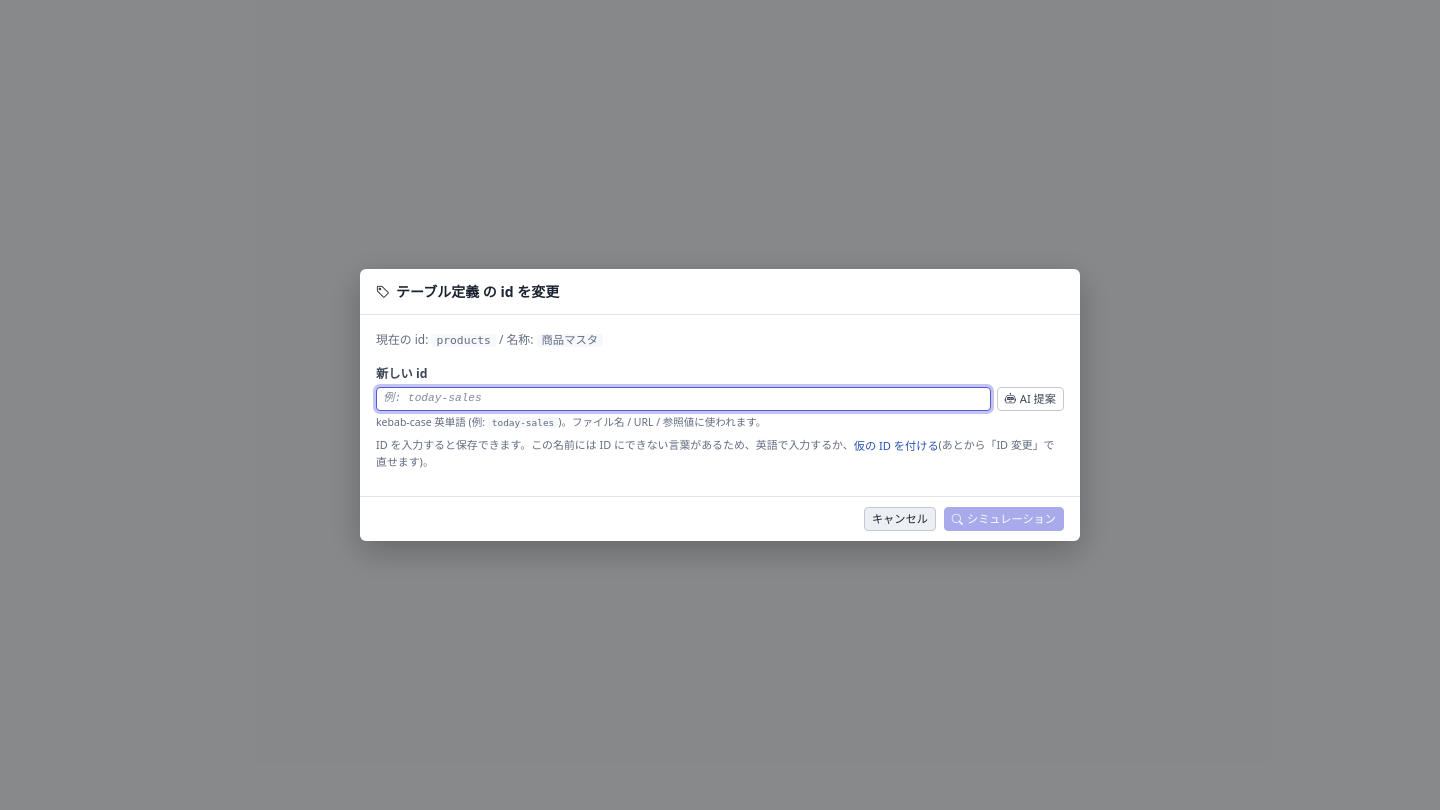
Test case: RenameEntityDialog › lockedByOther preview → 実行ボタン disabled + 警告表示
Type "products-v2" into the field with test id "entity-id-input" showing "新しい id".
click(683, 399); type("products-v2")  # box [376, 387, 991, 410]
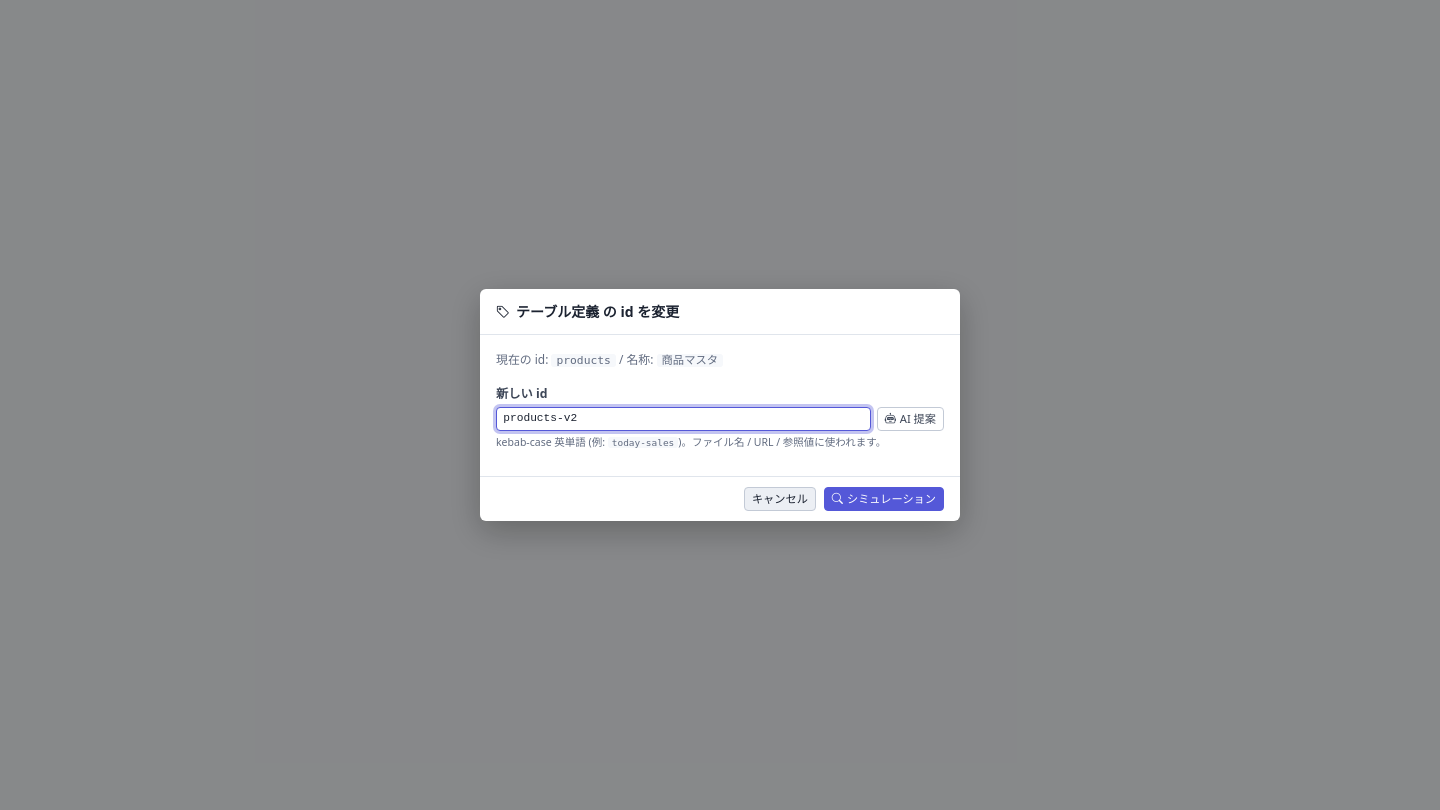
Click the button with test id "rename-entity-preview-btn".
click(884, 499)  # box [824, 487, 944, 511]
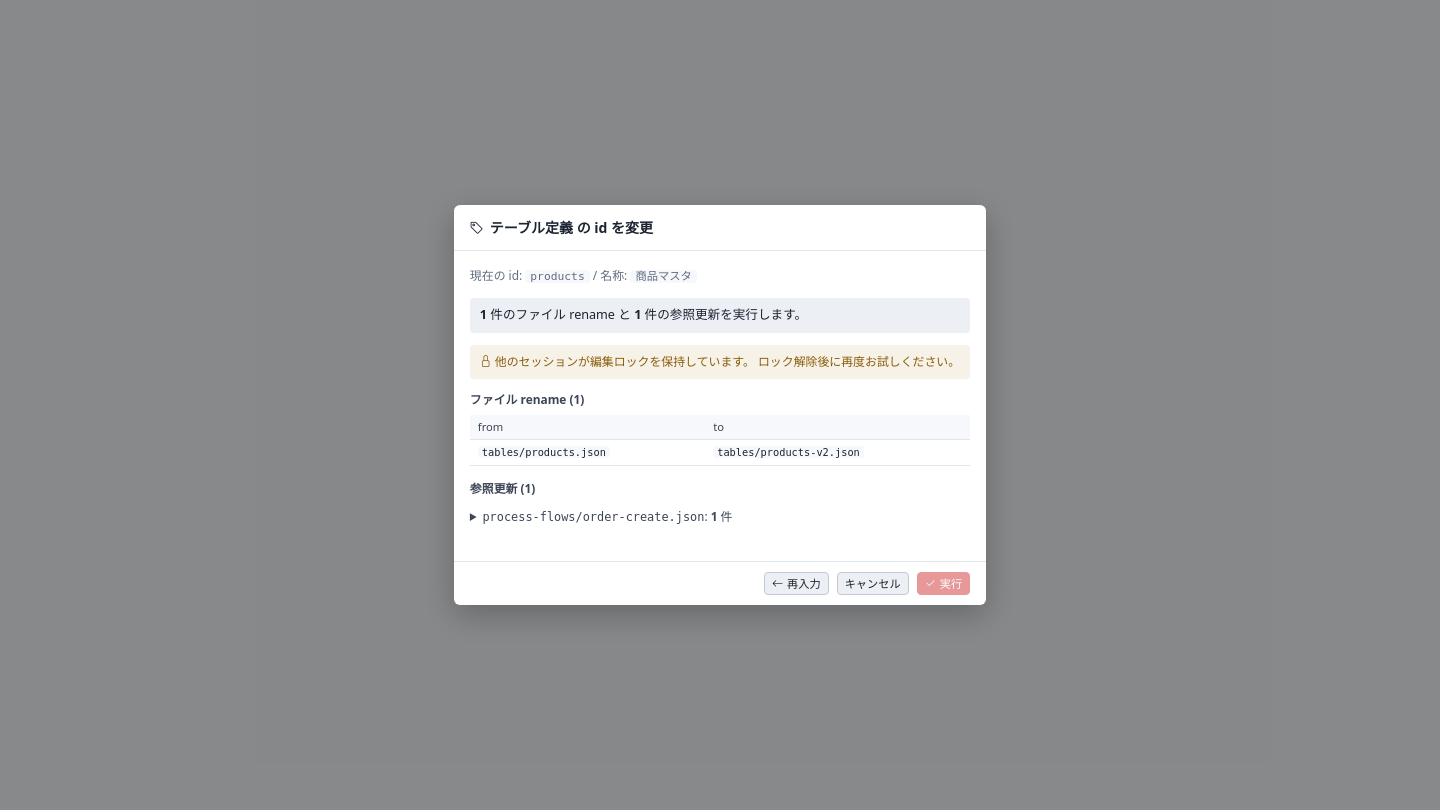
Now the element with test id "rename-entity-lock-warning" is shown, box [470, 345, 970, 379]
Now the button with test id "rename-entity-execute-btn" is disabled, box [917, 572, 970, 595]
